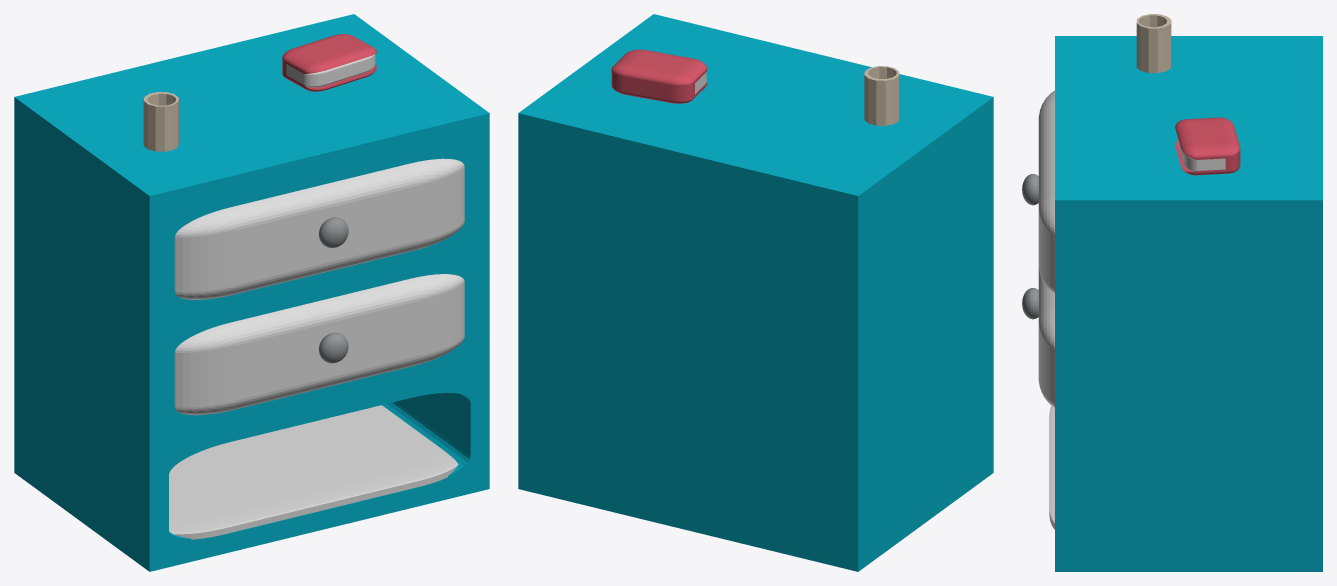
File: Drawer.glb
3 views of the same model, side by side, from view 1: azimuth 30°, elevation 25°; view 2: azimuth 150°, elevation 25°; view 3: azimuth 270°, elevation 25° (orthographic).
Parts seen in each view (by area): view 1: Mesh_Mesh_head_geo.001_lambert2SG.001; view 2: Mesh_Mesh_head_geo.001_lambert2SG.001; view 3: Mesh_Mesh_head_geo.001_lambert2SG.001.
Part boxes in pixels (bbox=[...]): Mesh_Mesh_head_geo.001_lambert2SG.001: bbox=[14, 14, 489, 571]; Mesh_Mesh_head_geo.001_lambert2SG.001: bbox=[518, 14, 993, 571]; Mesh_Mesh_head_geo.001_lambert2SG.001: bbox=[1022, 14, 1322, 571].
Size of the model in its own units: 71 by 84 by 55.
